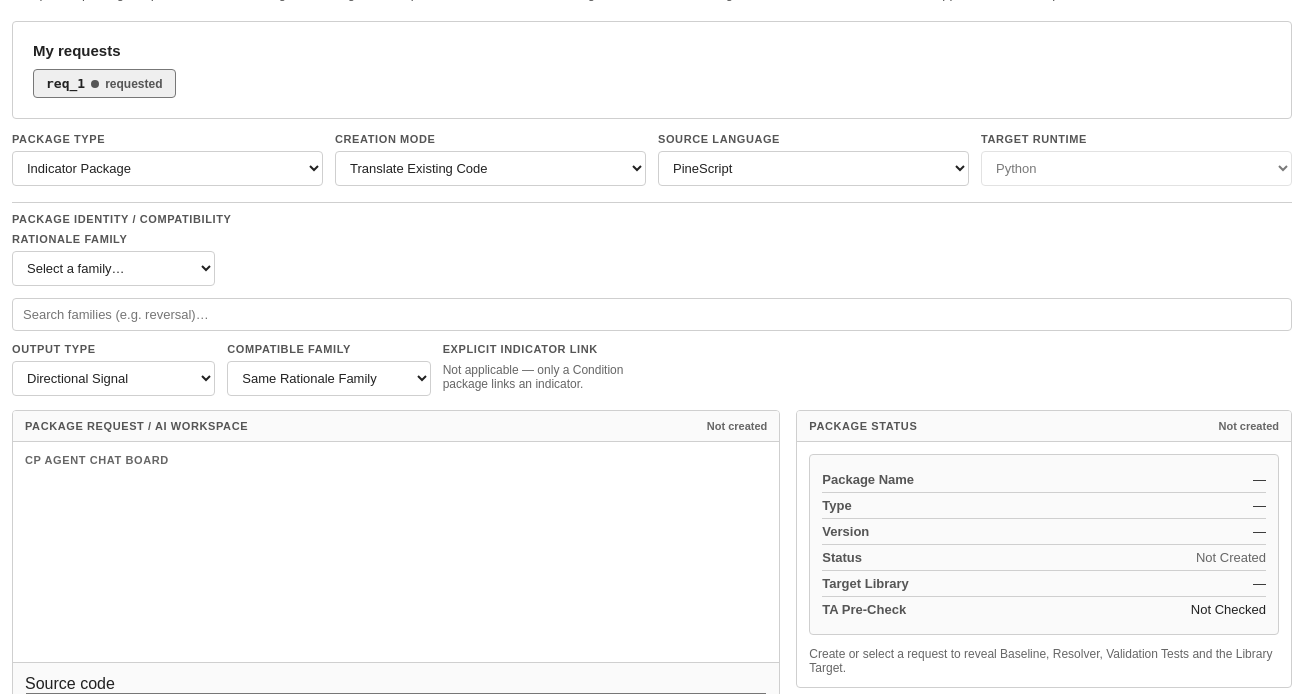
Create Package page › replaces Approve with the Admin note for a non-admin at eligible_for_approval (R2-12)
Expected: the text "req_1" is shown, [46,76,85,91]
Click the button "req_1 requested". click: {"x": 104, "y": 84}
box: [33,69,176,98]
(page scrolled)
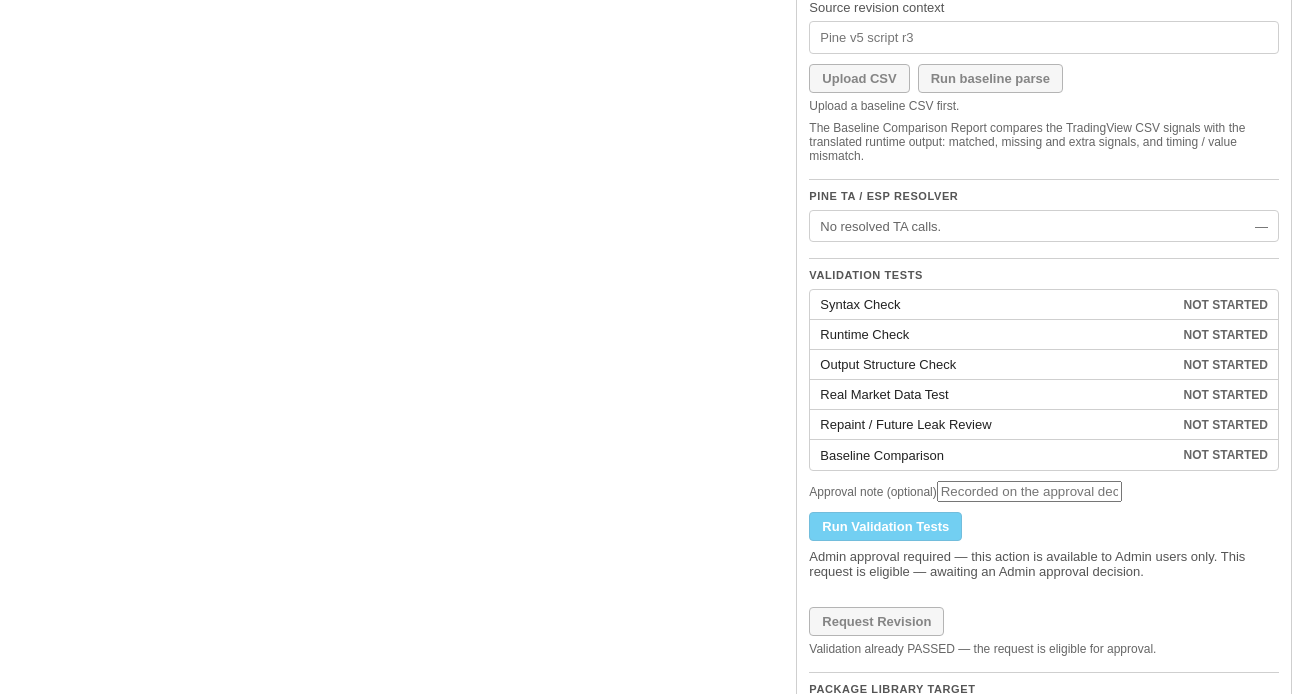
Result: the text "Admin approval required" is shown at [809,549,1217,564]
Result: the text "awaiting an Admin approval decision" is shown at [809,549,1245,579]
